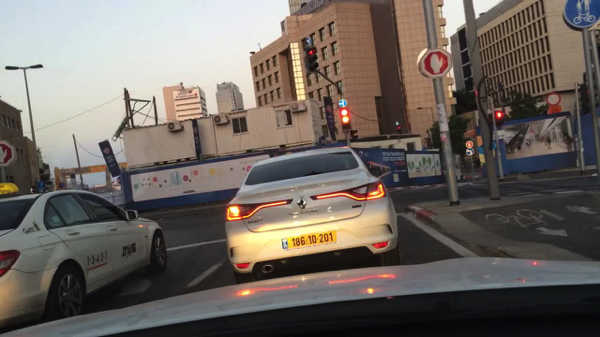car: (0, 181, 168, 329), (224, 145, 399, 285)
traffic light: (305, 45, 319, 75), (339, 107, 352, 132), (578, 80, 587, 116), (487, 110, 504, 125)
traffic sign: (561, 1, 599, 31), (417, 48, 451, 79), (0, 139, 17, 169), (544, 93, 561, 109), (337, 98, 346, 107), (465, 148, 475, 156), (305, 37, 313, 45), (465, 140, 473, 148)
